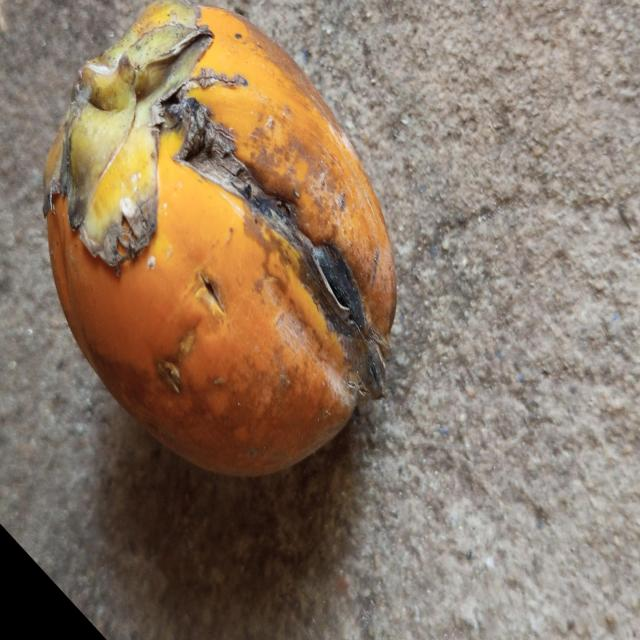damaged: (41, 0, 397, 481)
